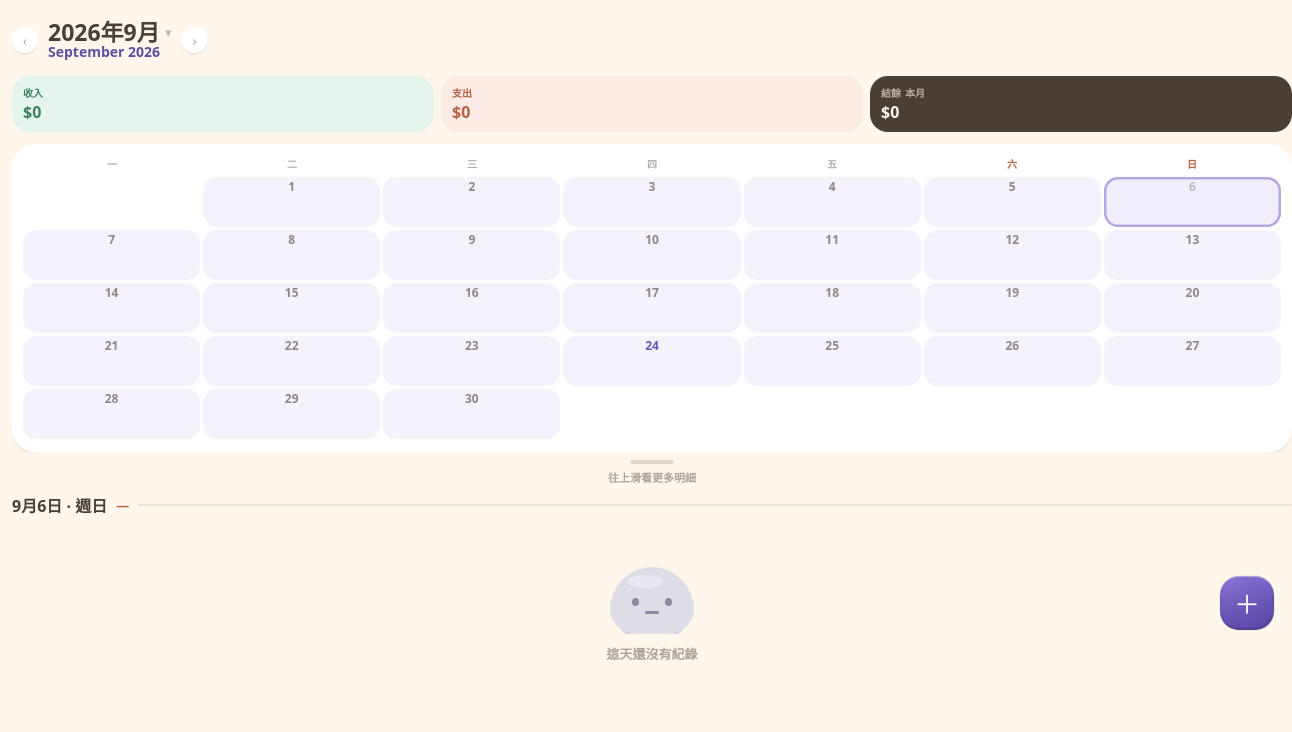
Test case: DailyScreen 的日期選擇 › 點月曆上的日期換到那天
Click the button "18" at point(832, 308), box [744,283,921,333]
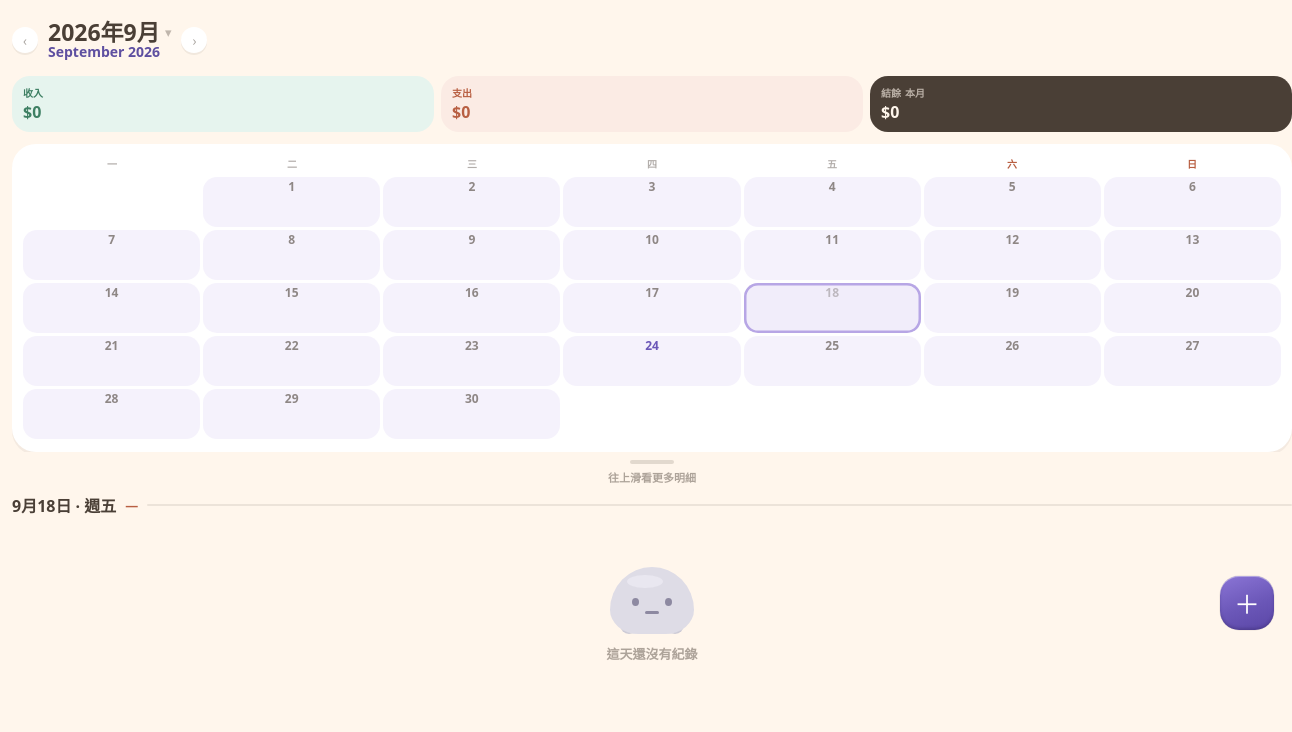
Result: the element with test id "day-header" shows "9月18日" at [12,495,116,517]
